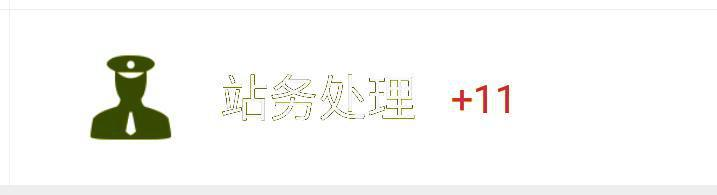CheckedTextView: (1, 1, 716, 194)
